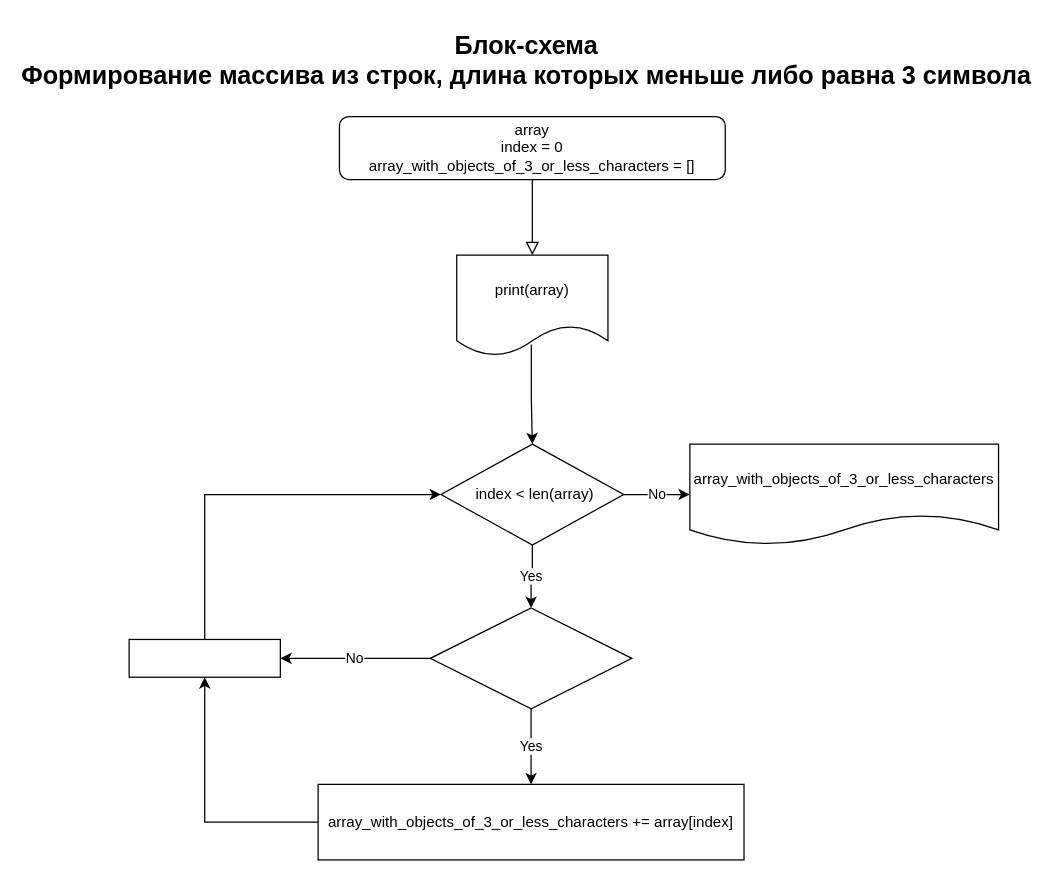
The diagram is 1052 pixels wide and 882 high, and some of its shapes have lost their labels. Here are the shapes that lost their labels. From the top down, the centre of each, then its label:
At point (204, 657): "index += 1".
At point (530, 658): "len(array[index]) <= 3".
